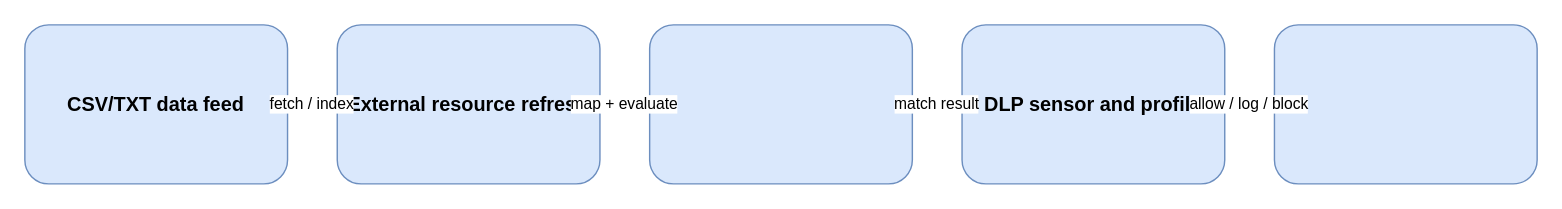
This 1562x209 diagram has some shape labels left out. The shapes that lost their labels are listed below. From the top down, each one's box as (x1, y1, x2, y2) in pixels, then its label:
(648, 23, 912, 184): EDM template: column map + All/Any
(1273, 23, 1537, 184): Firewall policy action
